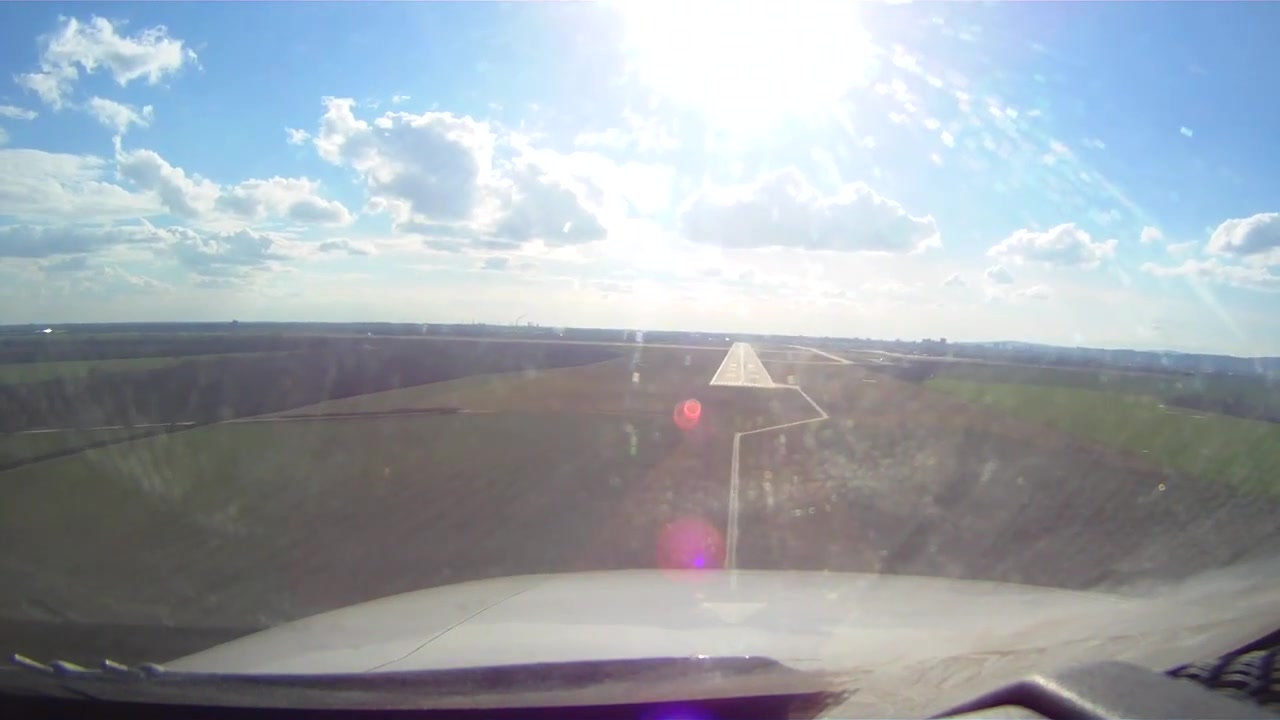entrance: (711, 380, 774, 386)
runway: (709, 342, 776, 389)
